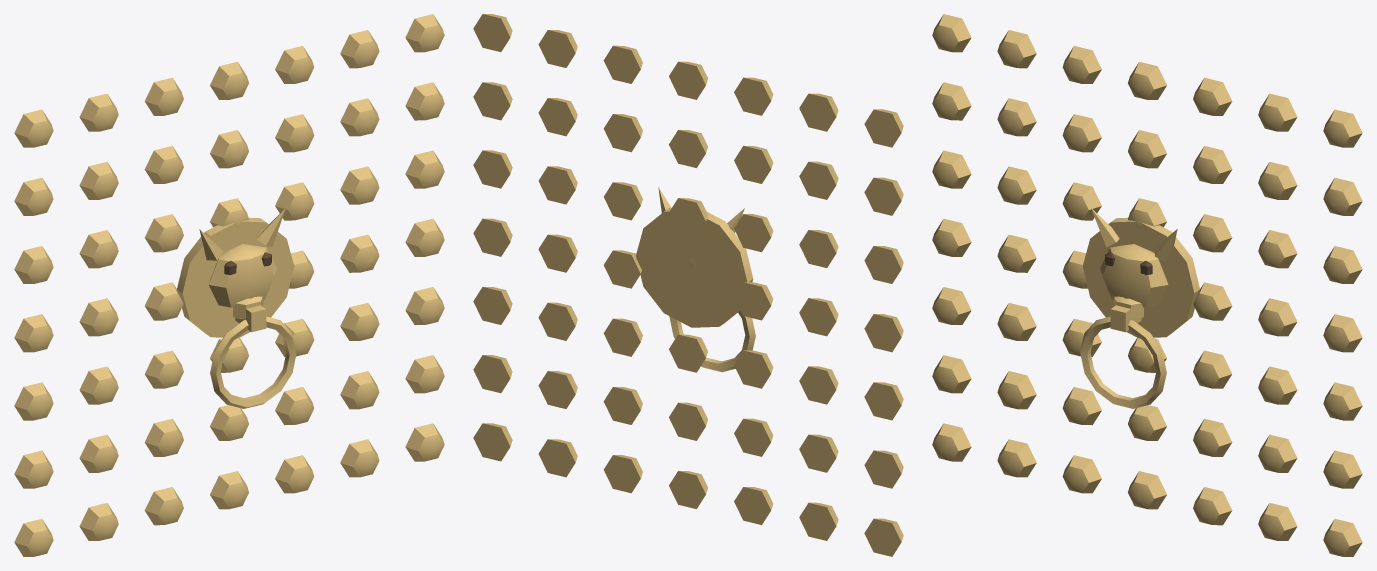
Rendered from mending-pushou.glb.
3 renders of one model, left to right at view 1: azimuth 30°, elevation 25°; view 2: azimuth 150°, elevation 25°; view 3: azimuth 330°, elevation 25°, orthographic.
Visible parts, largest first — view 1: mending, pushou; view 2: mending, pushou; view 3: mending, pushou.
Boxes of the visible parts, left/top/right/bottom form: mending: left=14, top=14, right=444, bottom=556; pushou: left=177, top=208, right=296, bottom=408; mending: left=473, top=14, right=903, bottom=556; pushou: left=636, top=187, right=755, bottom=372; mending: left=932, top=14, right=1362, bottom=556; pushou: left=1080, top=208, right=1199, bottom=408.
Bounding box in the file's own units: 0.69 × 0.682 × 0.085.
